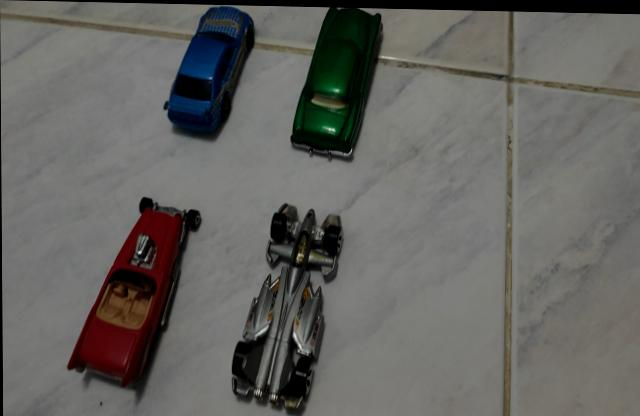03_V8: (65, 197, 202, 389)
04_MERZEDES: (163, 5, 257, 138)
05_DC121: (228, 204, 343, 416)
06_MASERATI: (289, 7, 383, 161)
